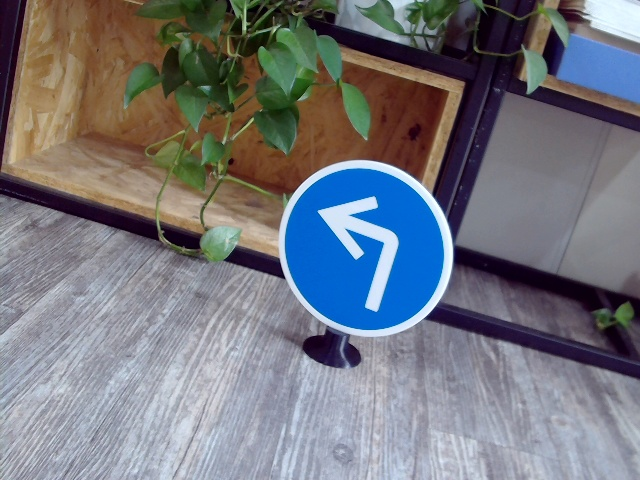turn_left: (314, 192, 411, 308)
